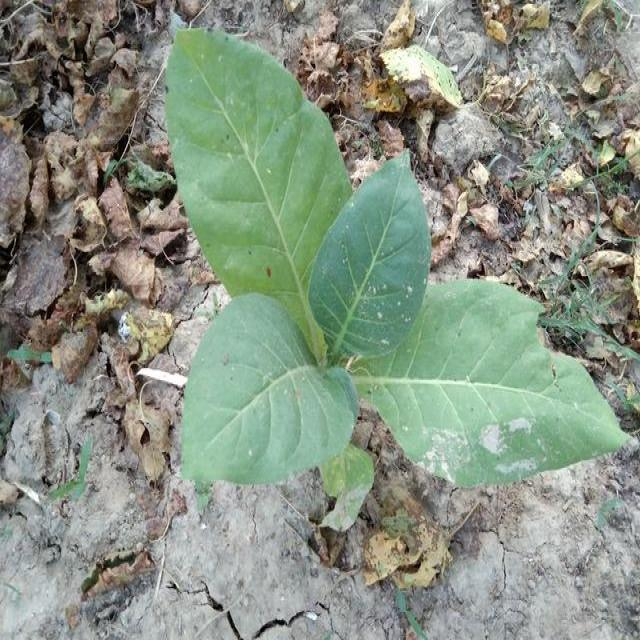crop: (167, 32, 607, 534)
